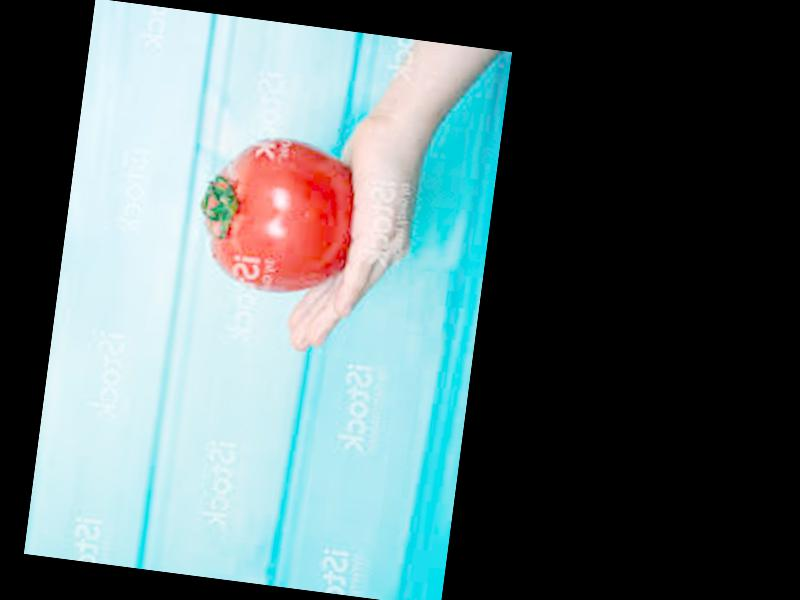Tomato: (193, 132, 363, 301)
